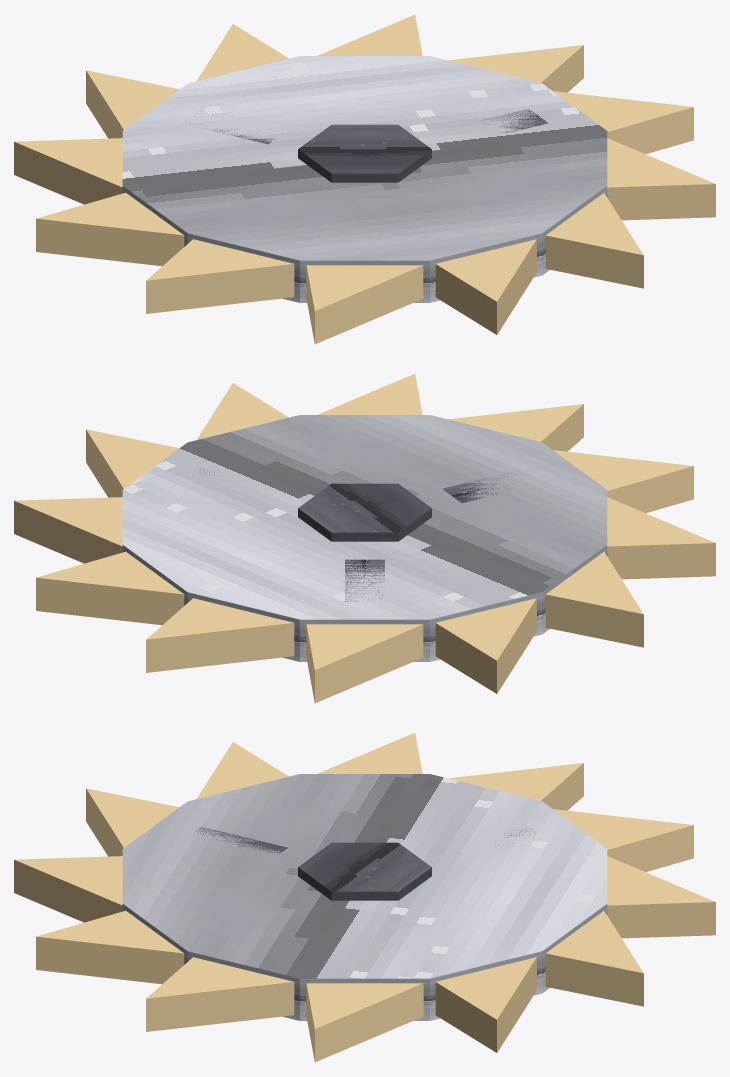
Rendered from proj_sawblade.gltf.
3 views of the same model, one above another, from view 1: azimuth 30°, elevation 25°; view 2: azimuth 150°, elevation 25°; view 3: azimuth 270°, elevation 25° (orthographic).
Visible parts, largest first — view 1: blade, edge; view 2: blade, edge; view 3: blade, edge.
Part boxes in pixels (x1=…): blade: x1=122, y1=56, x2=607, y2=302; edge: x1=14, y1=14, x2=715, y2=344; blade: x1=122, y1=415, x2=607, y2=661; edge: x1=14, y1=373, x2=715, y2=703; blade: x1=122, y1=774, x2=607, y2=1020; edge: x1=14, y1=732, x2=715, y2=1062.
Bounding box in the file's own units: 0.42 × 0.04 × 0.42.
Materials: 2 (1 with a texture image).
